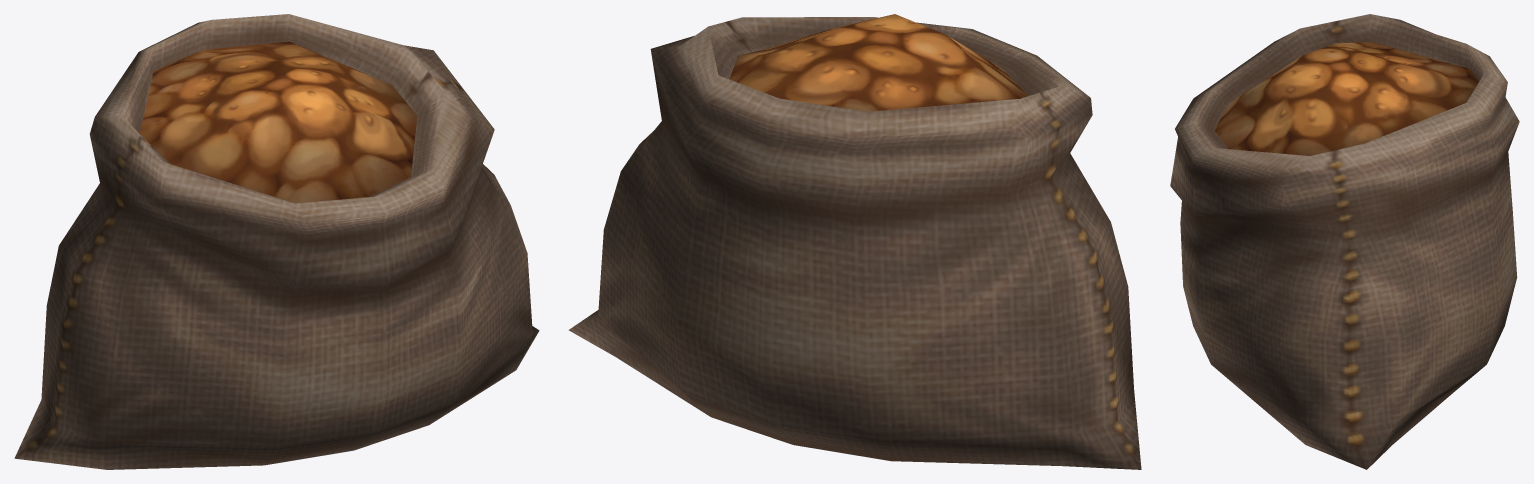
The model's file is alu-sack.fbx.
3 views of the same model, side by side, from view 1: azimuth 30°, elevation 25°; view 2: azimuth 150°, elevation 25°; view 3: azimuth 270°, elevation 25° (orthographic). The views are drawn at different scales.
Visible parts, largest first — view 1: storage_bag_potato; view 2: storage_bag_potato; view 3: storage_bag_potato.
Boxes of the visible parts, x1,y1,x2,y2 form: storage_bag_potato: [14, 14, 539, 469]; storage_bag_potato: [568, 14, 1141, 469]; storage_bag_potato: [1170, 14, 1519, 469].
Size of the model in its own units: 121 by 71.55 by 79.16.
Materials: 1 (1 with a texture image).
